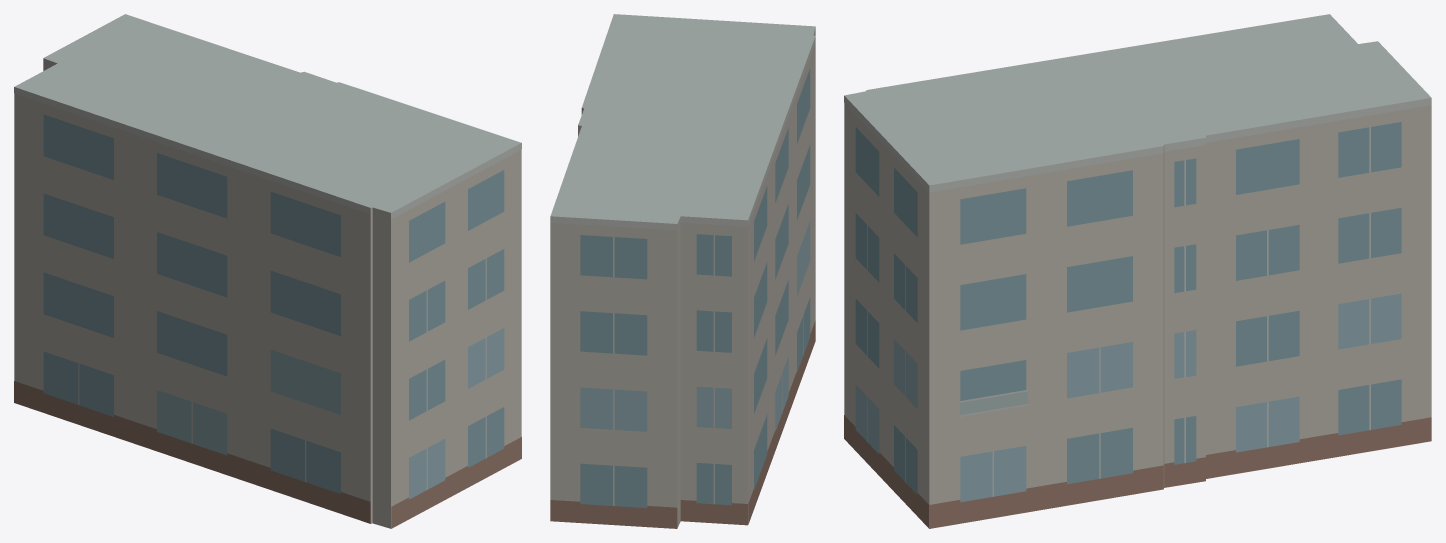
The model's file is survey-upis-32894164.glb.
3 views of the same model, side by side, from view 1: azimuth 30°, elevation 25°; view 2: azimuth 150°, elevation 25°; view 3: azimuth 270°, elevation 25° (orthographic). The views are drawn at different scales.
Parts seen in each view (by area): view 1: survey-upis-32894164.tmp; view 2: survey-upis-32894164.tmp; view 3: survey-upis-32894164.tmp.
Boxes of the visible parts, left/top/right/bottom form: survey-upis-32894164.tmp: left=14, top=14, right=521, bottom=528; survey-upis-32894164.tmp: left=550, top=14, right=815, bottom=528; survey-upis-32894164.tmp: left=844, top=14, right=1431, bottom=528.
Size of the model in its own units: 12.54 by 11.7 by 18.15.
